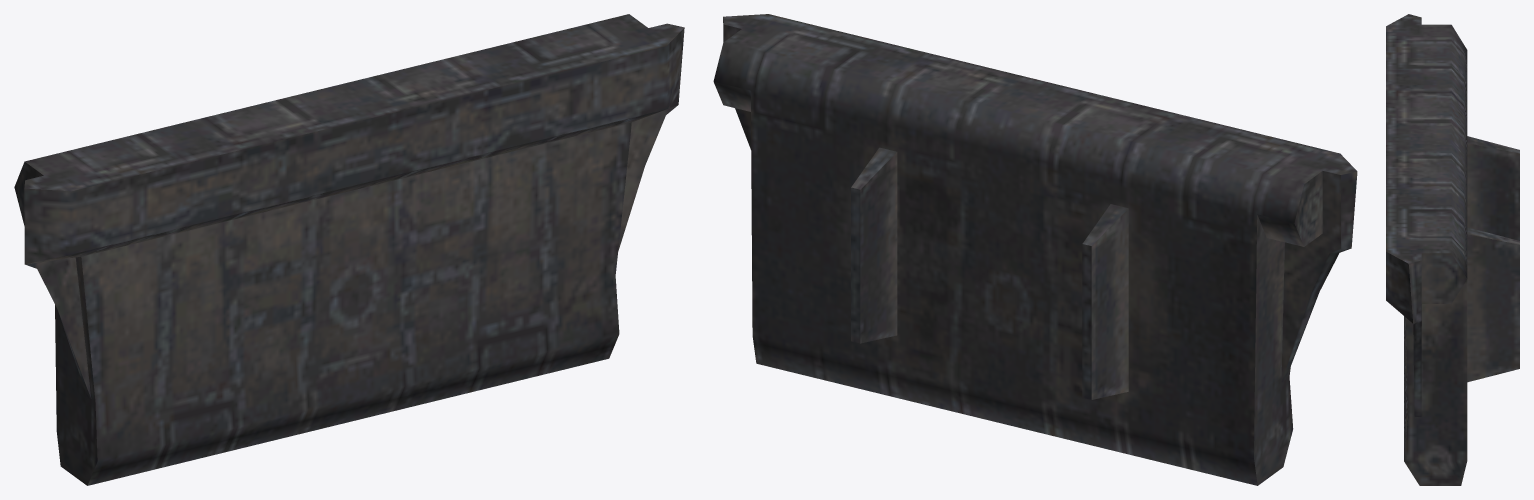
3 views of the same model, side by side, from view 1: azimuth 30°, elevation 25°; view 2: azimuth 150°, elevation 25°; view 3: azimuth 270°, elevation 25° (orthographic). The views are drawn at different scales.
Visible parts, largest first — view 1: set_0_group_0; view 2: set_0_group_0; view 3: set_0_group_0.
Boxes of the visible parts, <box> form: set_0_group_0: <box>14,14,684,485</box>; set_0_group_0: <box>713,14,1357,485</box>; set_0_group_0: <box>1386,14,1519,485</box>.
Bounding box in the file's own units: 0.5728 × 0.2651 × 0.1297.
Materials: 1 (1 with a texture image).
